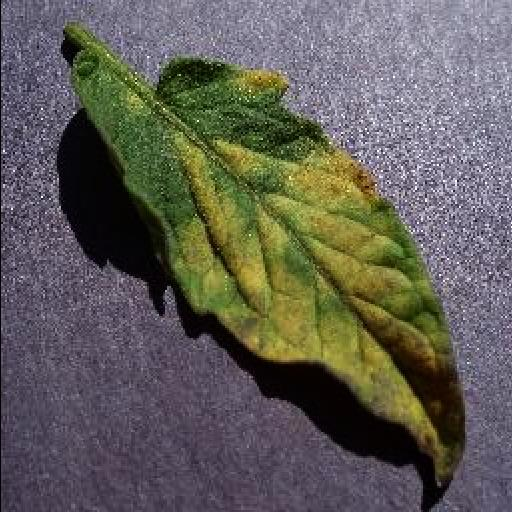disease_tomato: (71, 43, 469, 499)
